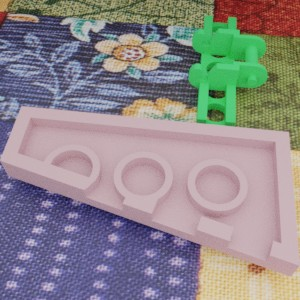lego: (0, 106, 300, 276), (188, 15, 267, 134)
